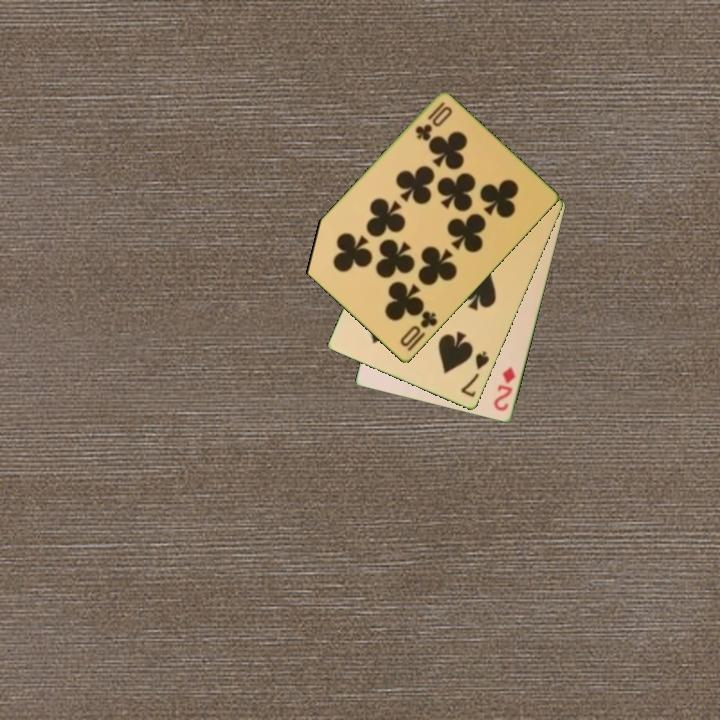10c: (397, 307, 440, 350), (411, 98, 448, 144)
2d: (490, 363, 519, 414)
7s: (457, 348, 492, 400)
